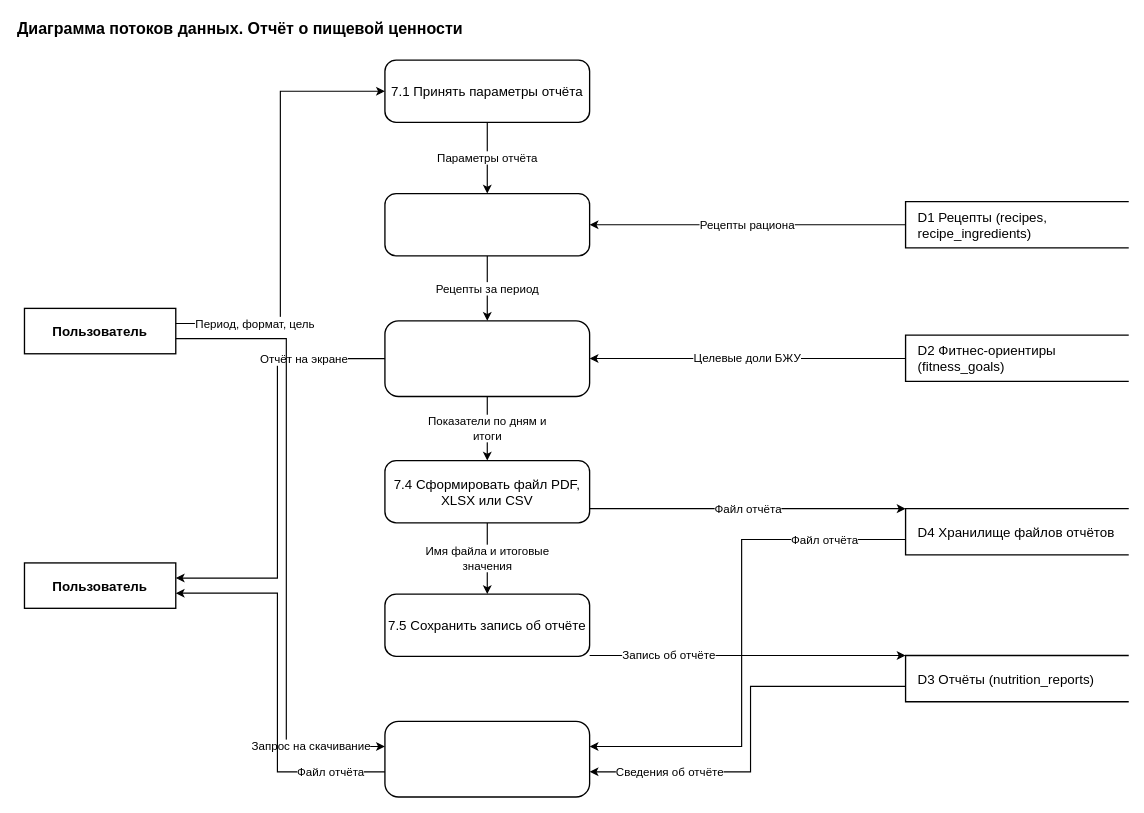
This 1144x813 diagram has some shape labels left out. The shapes that lost their labels are listed below. From the top down, each one's centre as x and y in pixels, then its label:
the point at 487,224: 7.2 Выбрать рецепты рациона за период
the point at 487,358: 7.3 Рассчитать показатели и баланс БЖУ
the point at 487,758: 7.6 Выдать файл на скачивание
